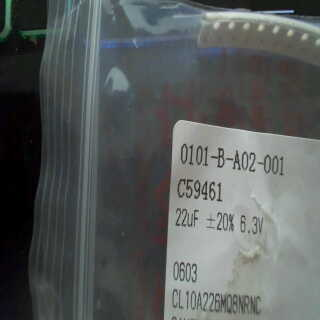22uF: (171, 205, 201, 231)
